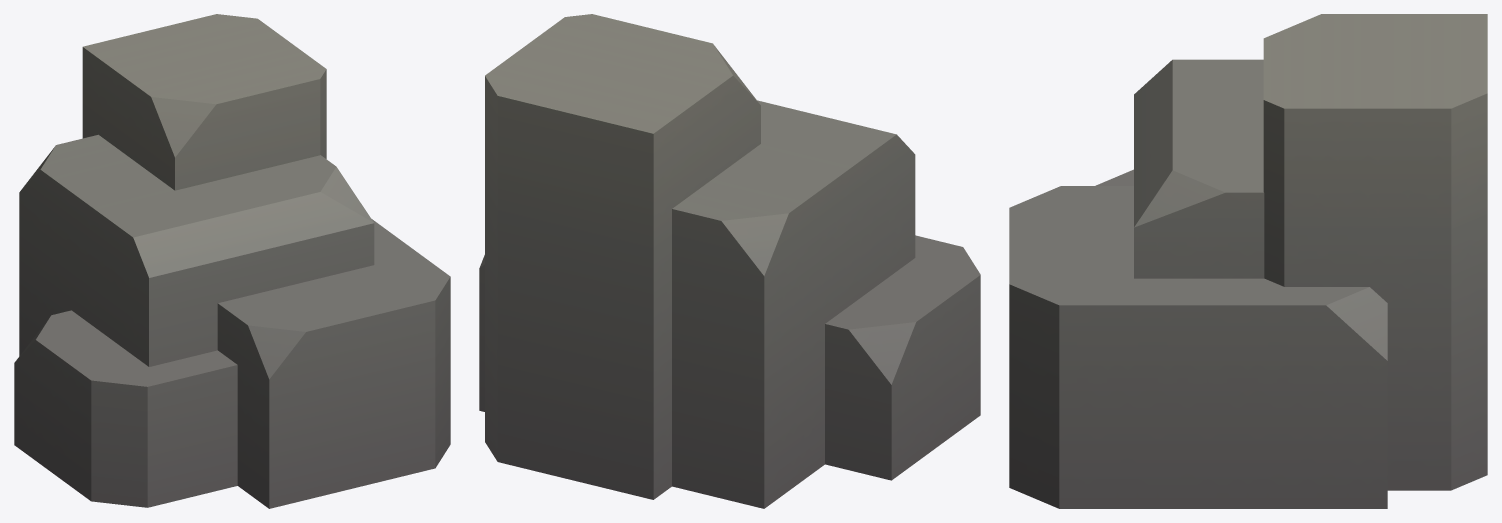
The model's file is rock1.fbx.
3 renders of one model, left to right at view 1: azimuth 30°, elevation 25°; view 2: azimuth 150°, elevation 25°; view 3: azimuth 270°, elevation 25°, orthographic. The views are drawn at different scales.
Parts seen in each view (by area): view 1: rock1; view 2: rock1; view 3: rock1.
Part boxes in pixels (left/top/right/bottom): rock1: left=14, top=14, right=450, bottom=508; rock1: left=479, top=14, right=980, bottom=508; rock1: left=1009, top=14, right=1487, bottom=508.
Size of the model in its own units: 146 by 152 by 134.
